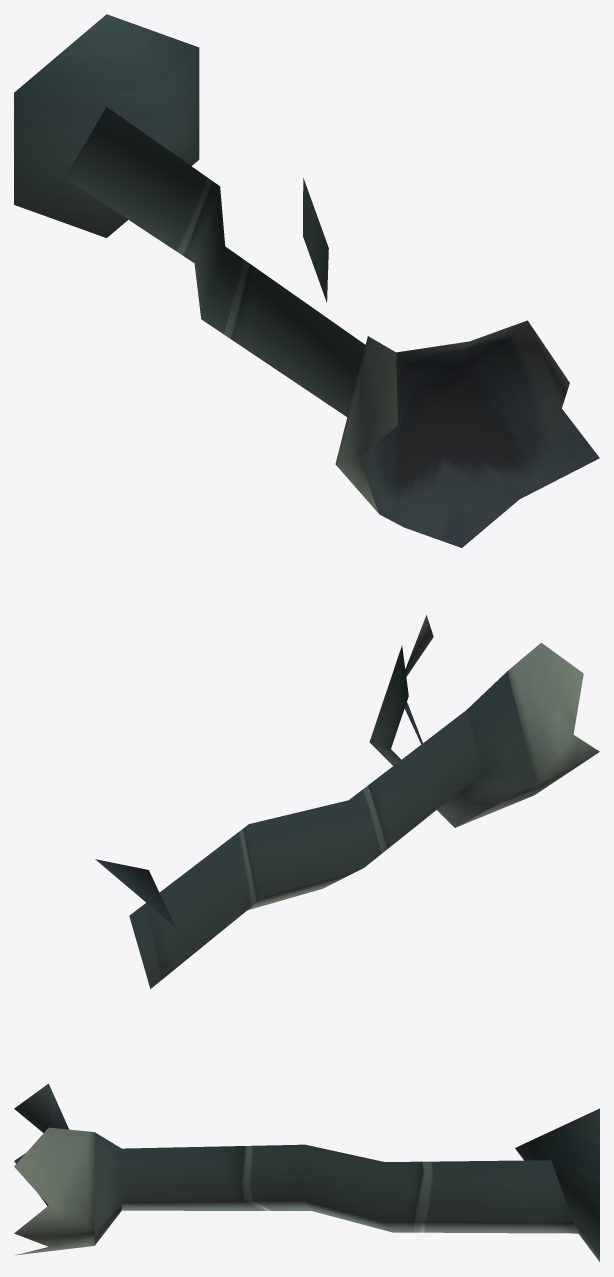
Rendered from chimney_pipe_02.glb.
3 views of the same model, one above another, from view 1: azimuth 30°, elevation 25°; view 2: azimuth 150°, elevation 25°; view 3: azimuth 270°, elevation 25° (orthographic). The views are drawn at different scales.
Parts seen in each view (by area): view 1: metal_parts.chimney_pipe_02-MeshNodes["chimney_pipe_round"]; view 2: metal_parts.chimney_pipe_02-MeshNodes["chimney_pipe_round"]; view 3: metal_parts.chimney_pipe_02-MeshNodes["chimney_pipe_round"].
Boxes of the visible parts, <box> form: metal_parts.chimney_pipe_02-MeshNodes["chimney_pipe_round"]: <box>14,14,599,547</box>; metal_parts.chimney_pipe_02-MeshNodes["chimney_pipe_round"]: <box>95,615,599,988</box>; metal_parts.chimney_pipe_02-MeshNodes["chimney_pipe_round"]: <box>14,1083,599,1261</box>.
Bounding box in the file's own units: 0.7346 × 0.674 × 2.2.
Materials: 1 (1 with a texture image).
